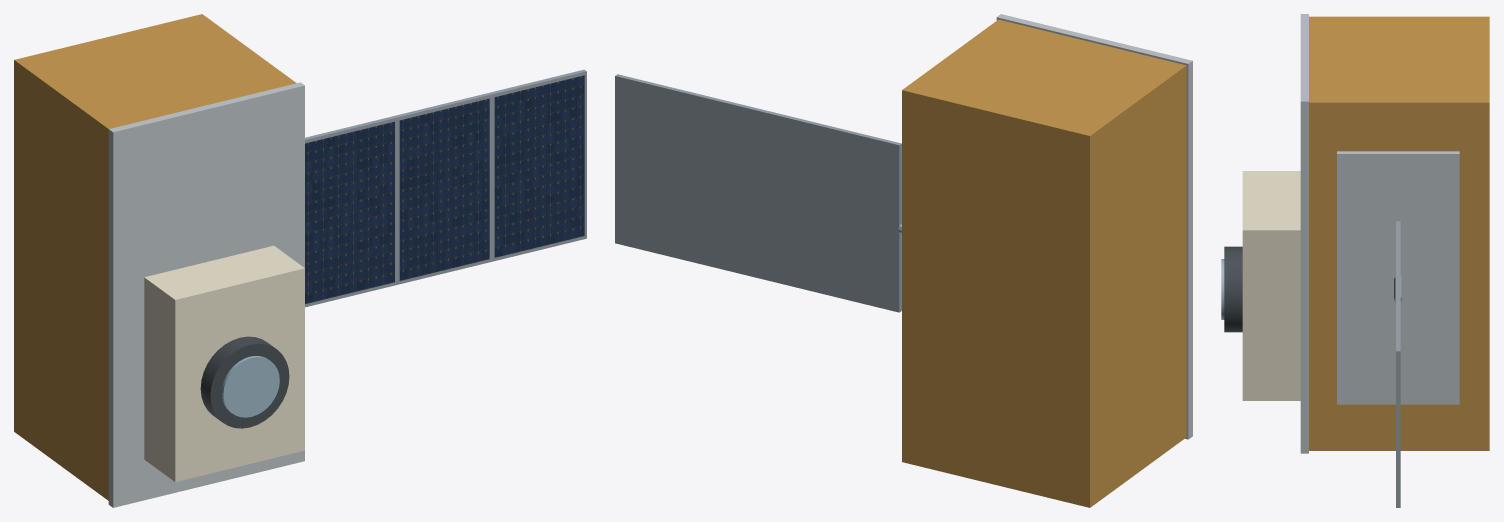
File: sentinel-2.glb
The picture shows the model from 3 angles, left to right: view 1: azimuth 30°, elevation 25°; view 2: azimuth 150°, elevation 25°; view 3: azimuth 270°, elevation 25°; orthographic projection. The views are drawn at different scales.
Visible parts, largest first — view 1: Equipment module, Photovoltaic laminates (×3), Payload deck, Instrument housing, Array frame (×3), Optical baffle, Optical aperture; view 2: Equipment module, Array frame (×3), Payload deck; view 3: Equipment module, Thermal radiator, Instrument housing, Payload deck, Optical baffle, Array frame.
Boxes of the visible parts, x1,y1,x2,y2 form: Equipment module: [14, 14, 296, 500]; Photovoltaic laminates (×3): [305, 75, 584, 303]; Payload deck: [108, 82, 304, 507]; Instrument housing: [144, 245, 304, 481]; Array frame (×3): [305, 69, 586, 307]; Optical baffle: [200, 336, 289, 428]; Optical aperture: [221, 356, 279, 417]; Equipment module: [902, 19, 1186, 507]; Array frame (×3): [615, 74, 901, 312]; Payload deck: [996, 14, 1192, 439]; Equipment module: [1309, 16, 1489, 450]; Thermal radiator: [1337, 151, 1459, 404]; Instrument housing: [1242, 171, 1300, 400]; Payload deck: [1300, 14, 1308, 453]; Optical baffle: [1224, 246, 1242, 332]; Array frame: [1396, 308, 1400, 507].
Size of the model in its own units: 5.02 by 3.43 by 2.38.
Materials: 7 (1 with a texture image).
